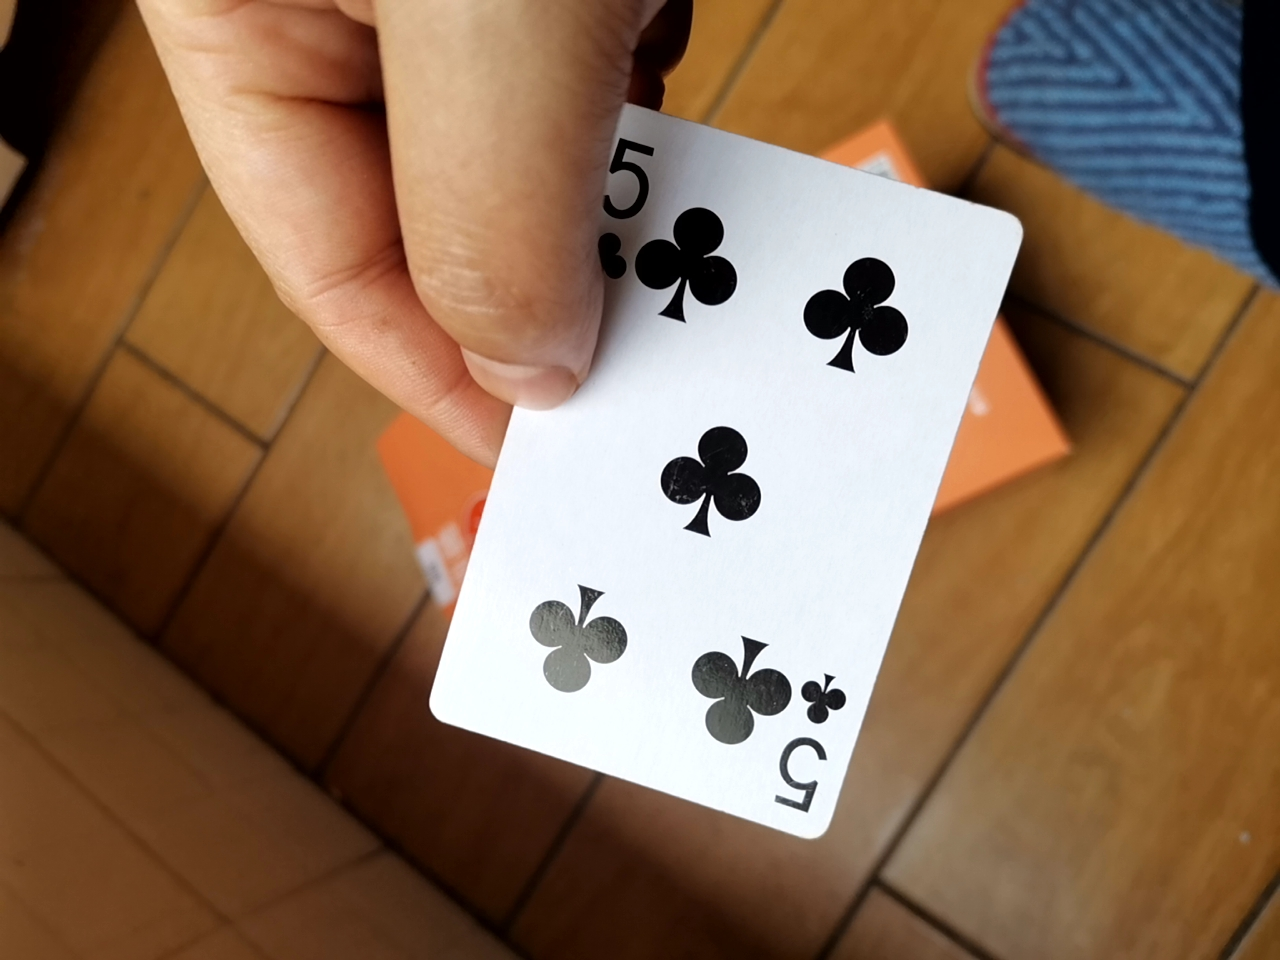mh 5: (395, 124, 1027, 841)
